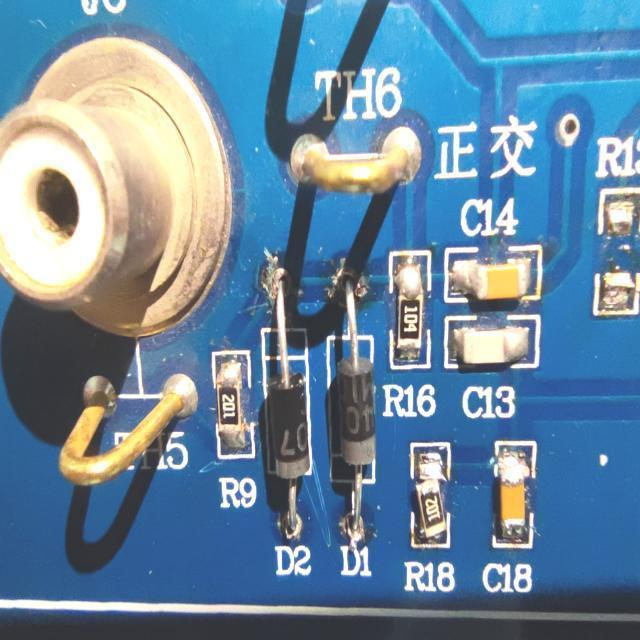Missing component: (591, 132, 640, 324)
